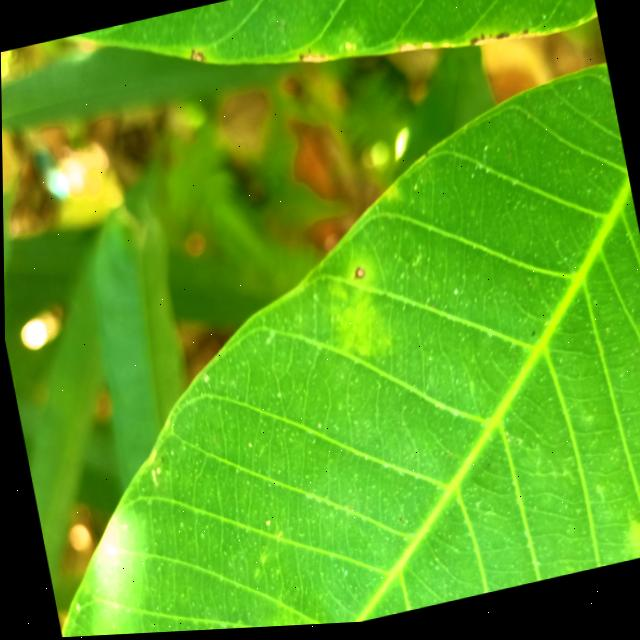Colletotrichum: (352, 270, 364, 283)
